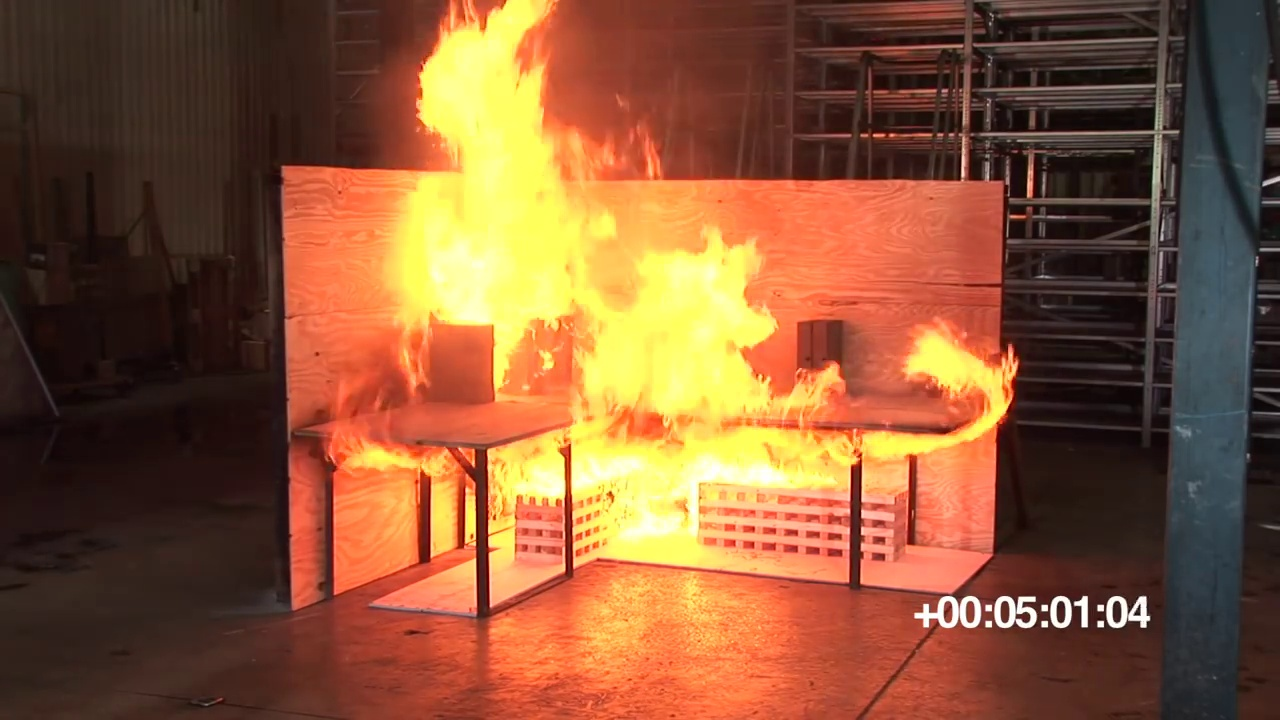fire: (390, 1, 573, 402), (580, 226, 846, 494), (907, 326, 1012, 447)
